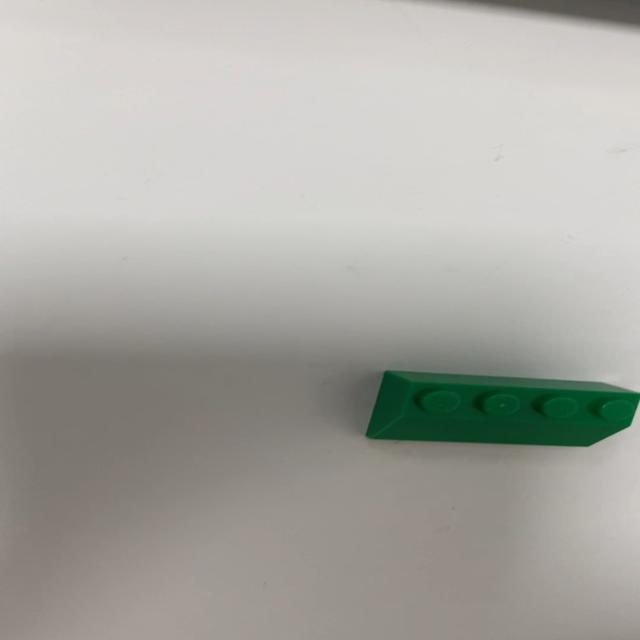P4x2x1: (358, 368, 632, 447)
